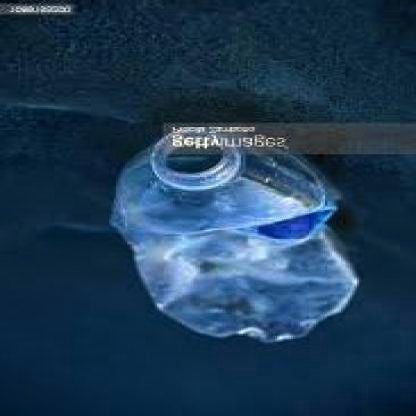pbottle: (100, 127, 361, 345)
